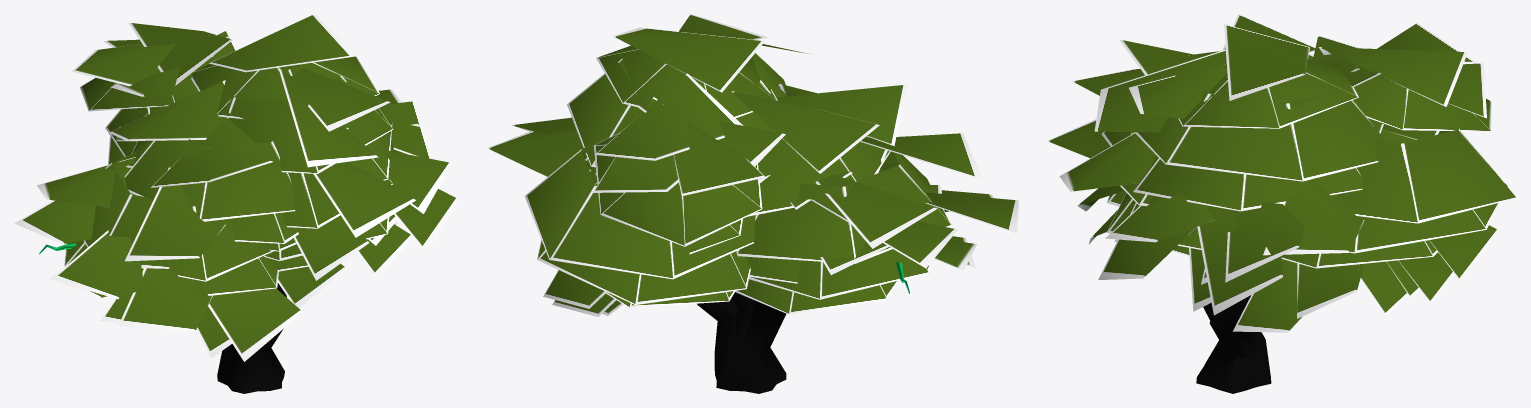
File: oak_tree_LOD0.fbx
3 views of the same model, side by side, from view 1: azimuth 30°, elevation 25°; view 2: azimuth 150°, elevation 25°; view 3: azimuth 270°, elevation 25° (orthographic). The views are drawn at different scales.
Visible parts, largest first — view 1: polySurface265; view 2: polySurface265; view 3: polySurface265.
Boxes of the visible parts, x1,y1,x2,y2 form: polySurface265: [14, 14, 458, 393]; polySurface265: [487, 14, 1018, 393]; polySurface265: [1047, 14, 1516, 393].
Size of the model in its own units: 5.59 by 4.08 by 4.92.
